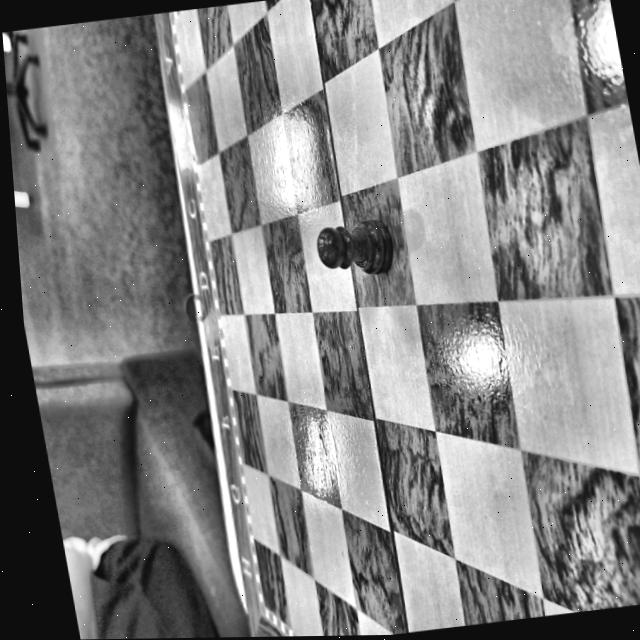black-pawn: (316, 219, 391, 274)
